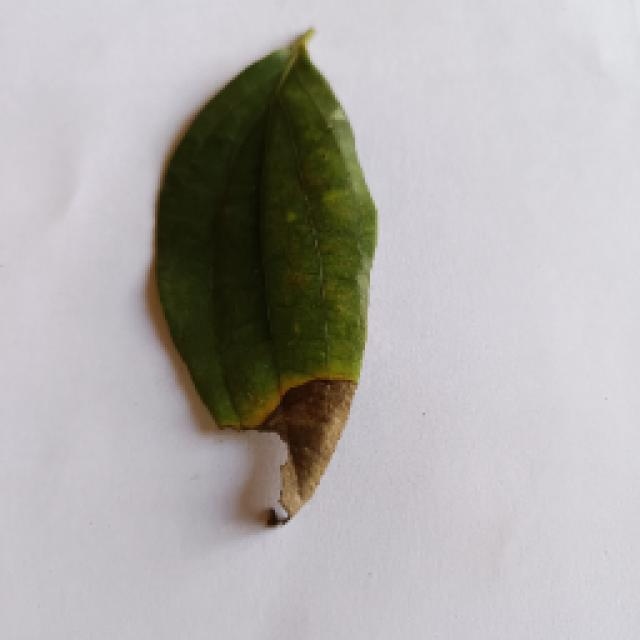footrot: (140, 28, 385, 528)
